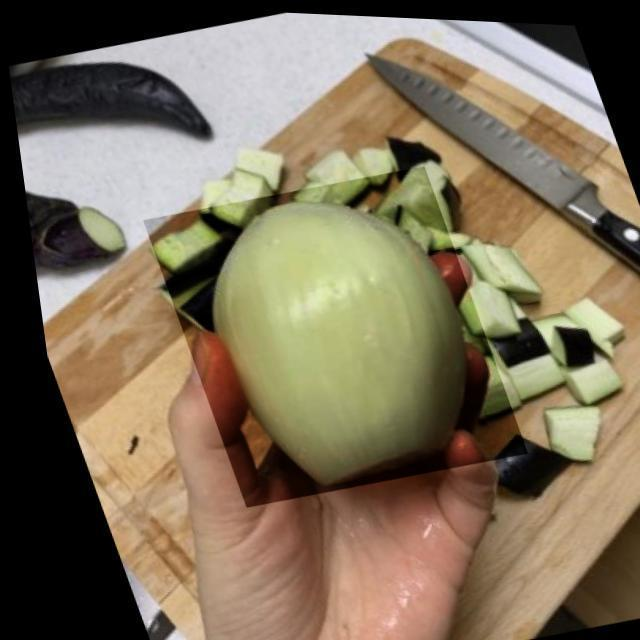Onion: (130, 152, 523, 516)
